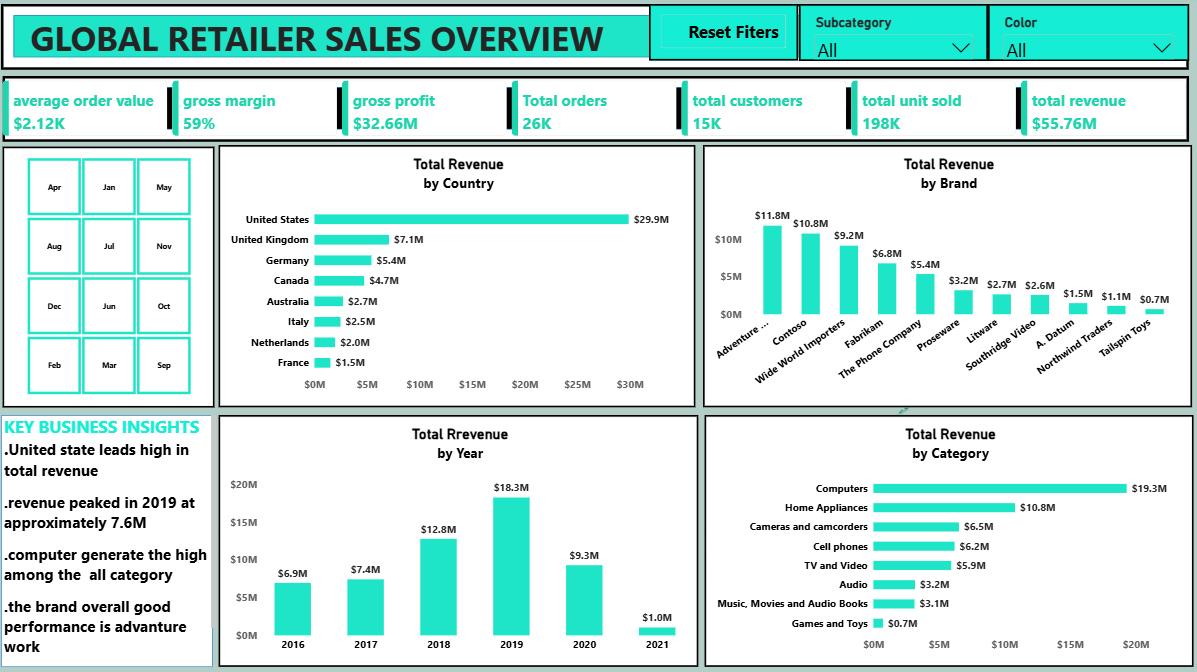

Layout of this report page (visuals, bound fields, positions):
{"tool":"powerbi","page":{"name":"excutive dashboard","canvas":[1920,1080],"ordinal":0},"visuals":[{"type":"shape","box":[14.3,668.1,337,401],"z":0},{"type":"shape","box":[16.7,128.8,1887.3,105],"z":1000},{"type":"cardVisual","fields":{"Data":["Customers.average order value","Customers.gross margin","Customers.gross profit","Customers.Total orders","Customers.total customers","Customers.total unit sold","Customers.total revenue"]},"box":[16.7,136,1887.3,88.3],"z":2000},{"type":"clusteredBarChart","fields":{"Category":["Customers.Country"],"Y":["Customers.Estimated revenue"]},"box":[360.3,238.6,758.7,417.5],"z":3000},{"type":"clusteredColumnChart","fields":{"Category":["Products.Brand"],"Y":["Customers.Estimated revenue"]},"box":[1130.9,238.6,777.8,417.5],"z":4000},{"type":"columnChart","fields":{"Category":["date table.Year"],"Y":["Customers.Estimated revenue"]},"box":[360.3,668.1,763.5,400.8],"z":5000},{"type":"clusteredBarChart","fields":{"Category":["Products.Category"],"Y":["Customers.Estimated revenue"]},"box":[1133.3,668.1,777.8,400.8],"z":6000},{"type":"shape","box":[14.3,14.3,1889.6,105],"z":7000},{"type":"textbox","box":[19.1,31,994.9,105],"z":8000},{"type":"slicer","fields":{"Values":["date table.Month"]},"box":[16.7,241,337,415],"z":9000},{"type":"textbox","box":[19.1,668.1,337,401],"z":10000},{"type":"slicer","fields":{"Values":["Products.Color"]},"box":[1584.2,14.3,319.7,90.7],"z":11000},{"type":"slicer","fields":{"Values":["Products.Subcategory"]},"box":[1283.6,14.3,300.6,90.7],"z":12000},{"type":"actionButton","box":[1046,14.5,237.6,89.8],"z":13000}]}

Visuals, with their boxes in screenshot pixels (x1, y1, x2, y2), scaled from the page's 1920x1080 canvas onto the 1197x672 screenshot:
shape: (9,416,219,665)
shape: (10,80,1187,145)
cardVisual - Customers.average order value x Customers.gross margin: (10,85,1187,140)
clusteredBarChart - Customers.Country x Customers.Estimated revenue: (225,148,698,408)
clusteredColumnChart - Products.Brand x Customers.Estimated revenue: (705,148,1190,408)
columnChart - date table.Year x Customers.Estimated revenue: (225,416,701,665)
clusteredBarChart - Products.Category x Customers.Estimated revenue: (707,416,1191,665)
shape: (9,9,1187,74)
textbox: (12,19,632,85)
slicer - date table.Month: (10,150,221,408)
textbox: (12,416,222,665)
slicer - Products.Color: (988,9,1187,65)
slicer - Products.Subcategory: (800,9,988,65)
actionButton: (652,9,800,65)
